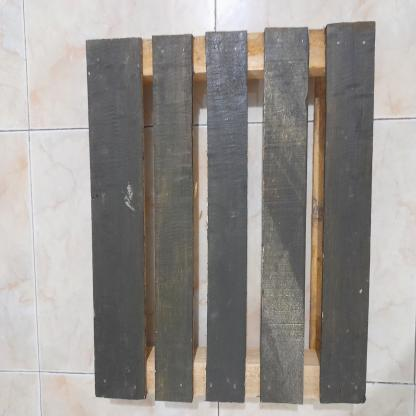Wooden-Pallet: (84, 15, 377, 404)
